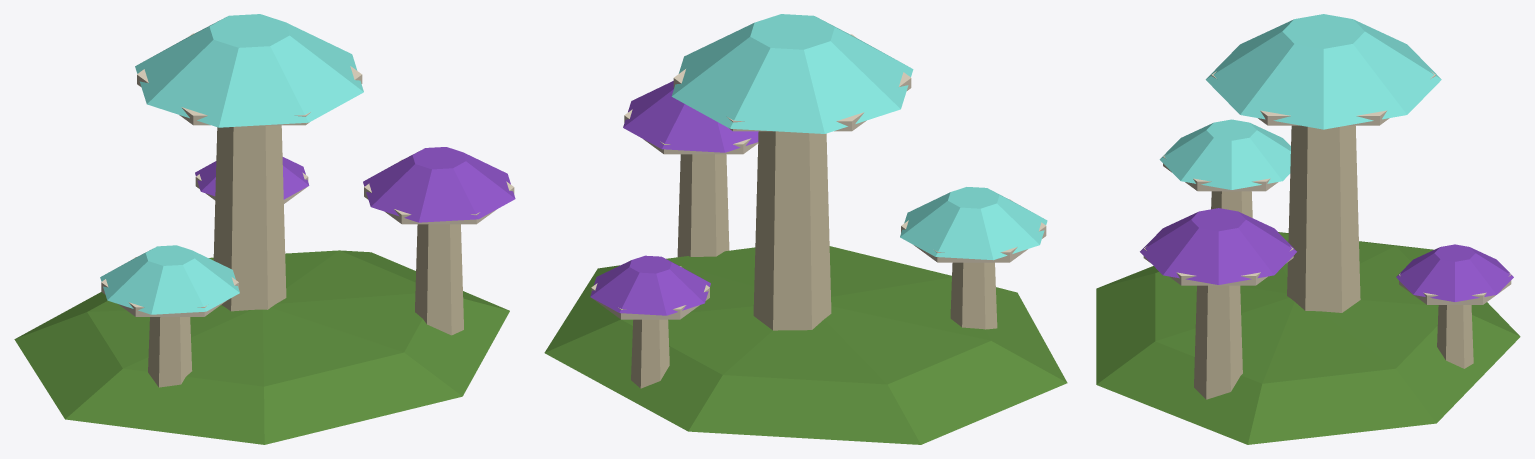
Rendered from prop_mushrooms.glb.
3 renders of one model, left to right at view 1: azimuth 30°, elevation 25°; view 2: azimuth 150°, elevation 25°; view 3: azimuth 270°, elevation 25°, orthographic. The views are drawn at different scales.
Visible parts, largest first — view 1: prop_mushrooms; view 2: prop_mushrooms; view 3: prop_mushrooms.
Boxes of the visible parts, box(x1,y1,x2,y2) form: prop_mushrooms: box(14, 14, 515, 444); prop_mushrooms: box(544, 14, 1067, 444); prop_mushrooms: box(1096, 14, 1520, 444).
Size of the model in its own units: 0.39 by 0.2564 by 0.3232.
1 material, 1 textured.
